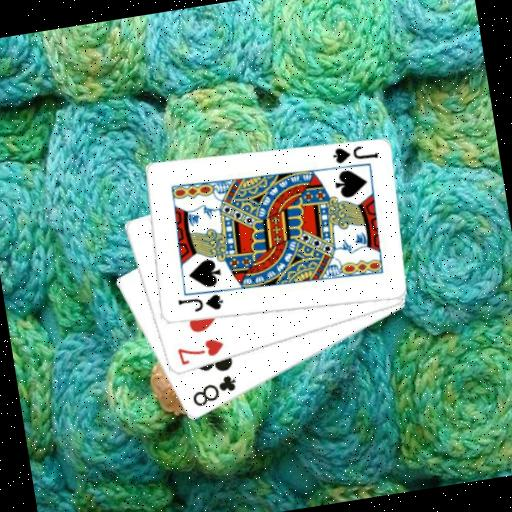7H: (172, 334, 227, 367)
8C: (186, 370, 241, 410)
JS: (173, 290, 225, 318), (328, 139, 379, 166)
